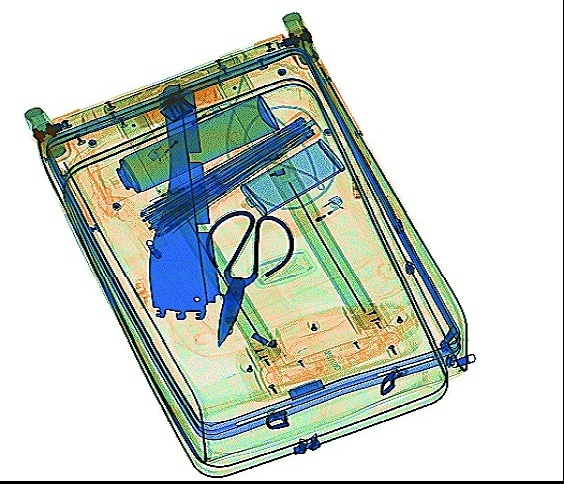lighter: (288, 193, 343, 250), (144, 121, 187, 166), (184, 102, 224, 134)
pressure: (86, 93, 279, 205)
scissors: (204, 208, 295, 347)
zippooil: (237, 136, 346, 218)
